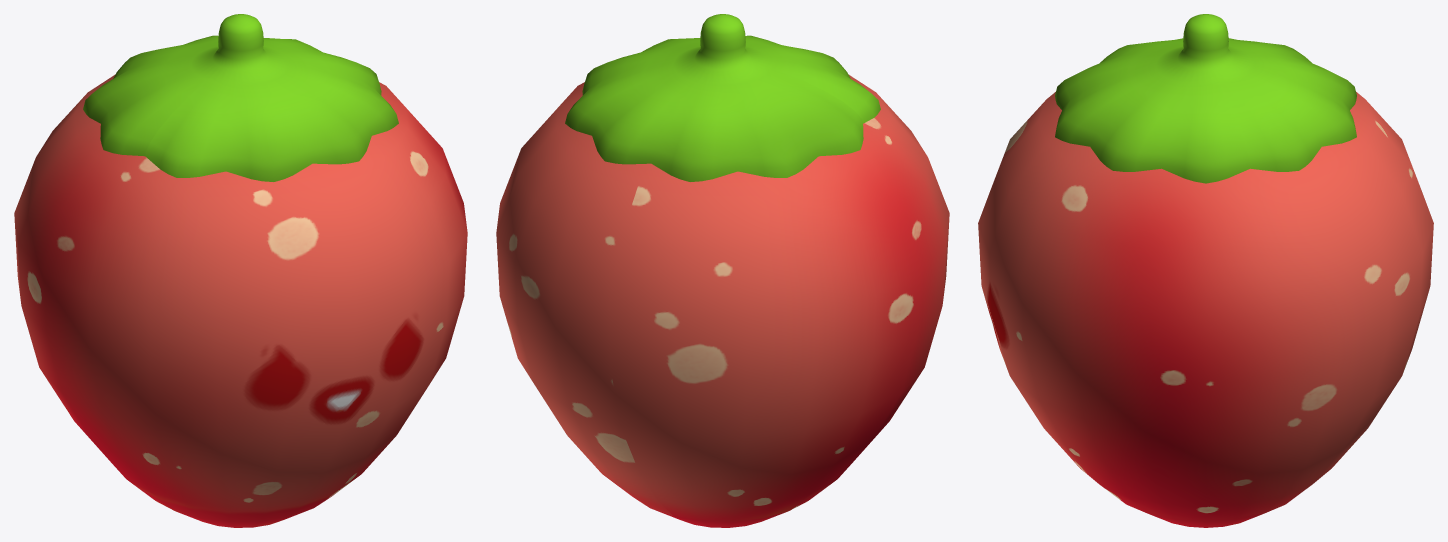
Rendered from Strawberry.fbx.
3 renders of one model, left to right at view 1: azimuth 30°, elevation 25°; view 2: azimuth 150°, elevation 25°; view 3: azimuth 270°, elevation 25°, orthographic.
Parts seen in each view (by area): view 1: Strawberry; view 2: Strawberry; view 3: Strawberry.
Part boxes in pixels (x1,y1,x2,y2): Strawberry: [14, 14, 467, 527]; Strawberry: [496, 14, 949, 527]; Strawberry: [978, 14, 1433, 527].
Bounding box in the file's own units: 5.15 × 6.29 × 5.15.
